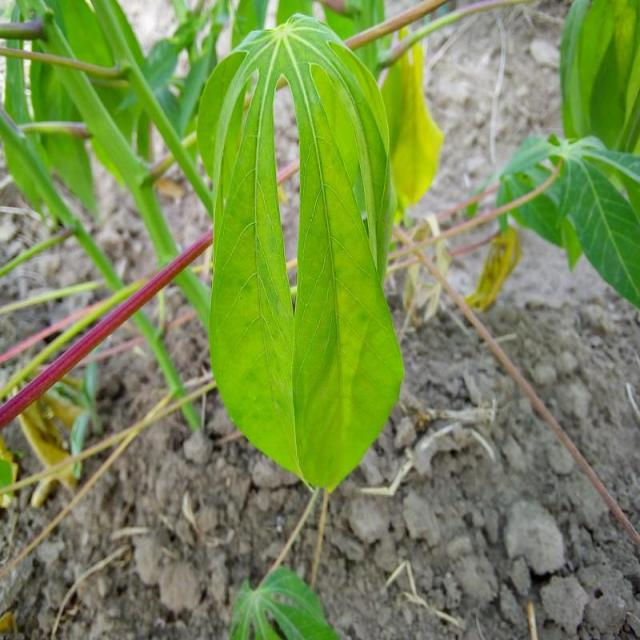cassava leaf: (201, 12, 405, 494)
